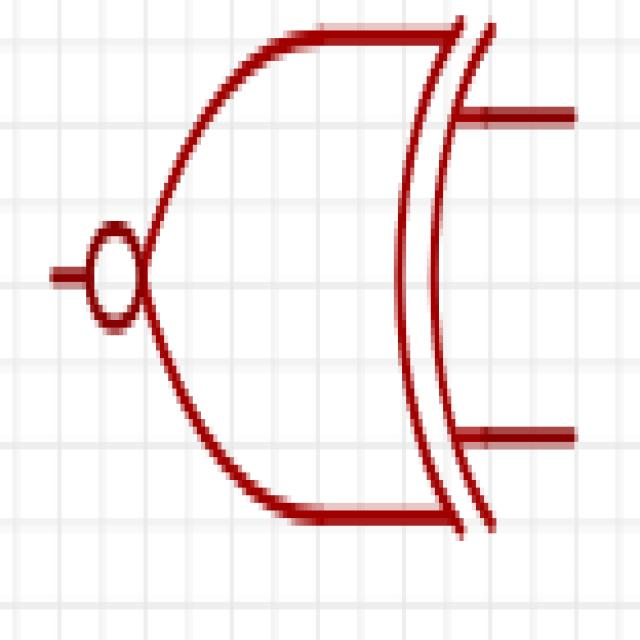xnor: (39, 9, 588, 594)
